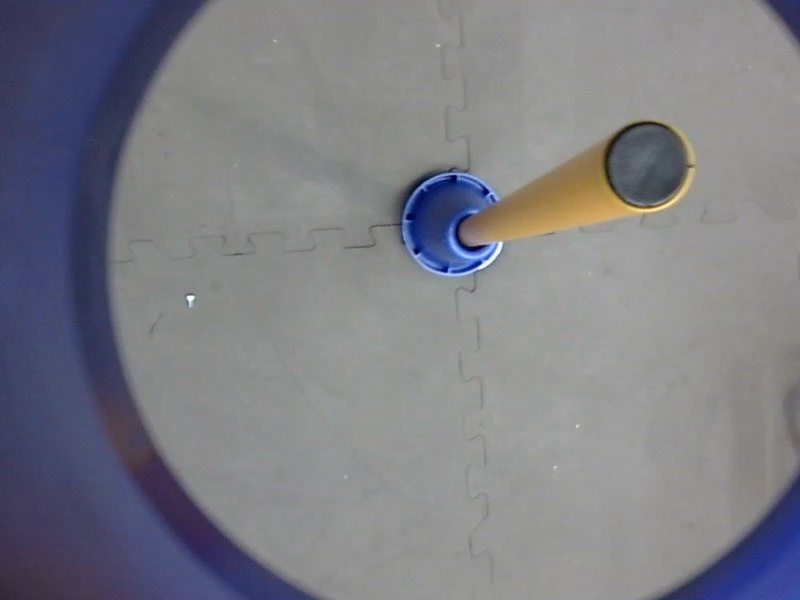tip: (598, 112, 701, 219)
